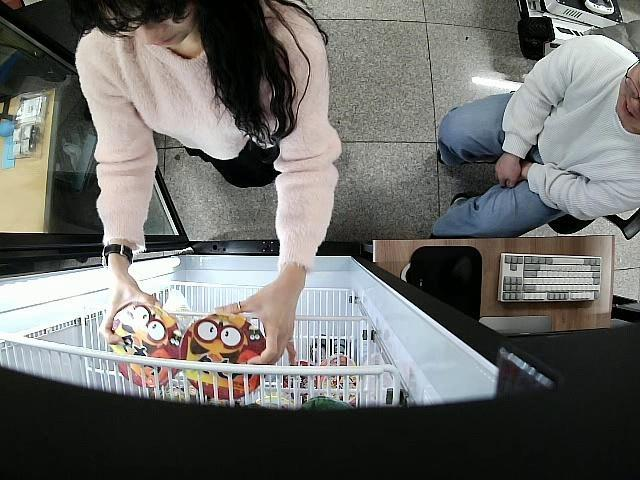05_nuguri_L: (184, 313, 266, 400), (107, 304, 182, 388)
